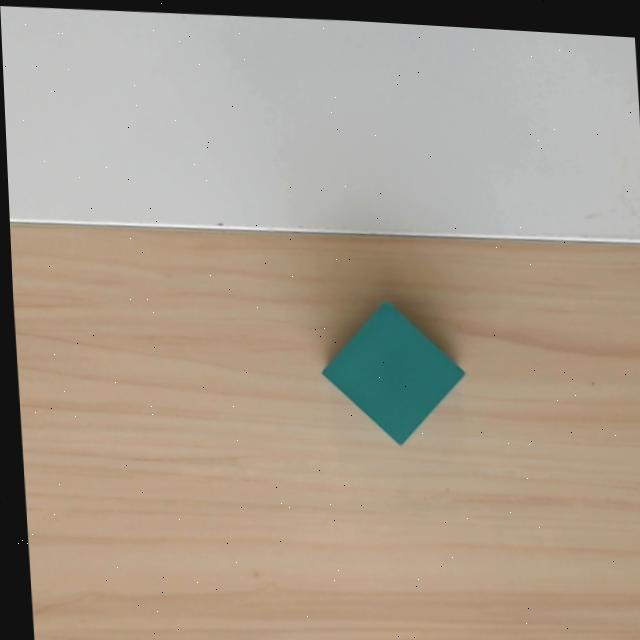Kubus-Hijau-505050: (320, 299, 468, 446)
